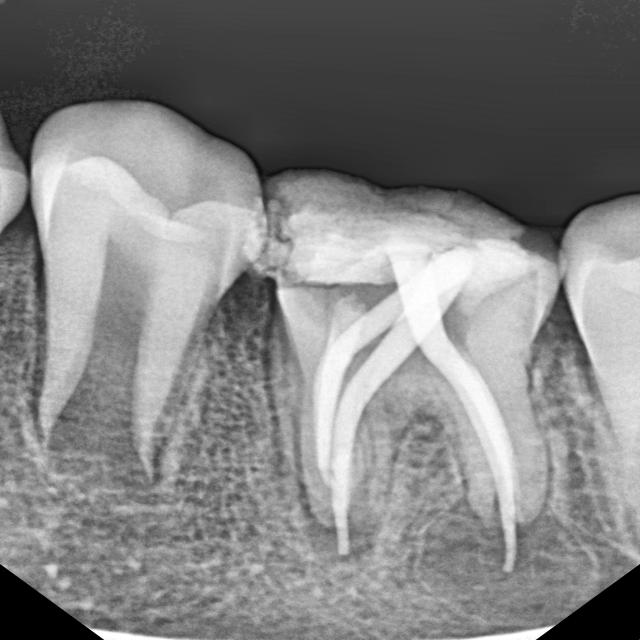RCT: (291, 284, 544, 583)
Restoration: (263, 158, 561, 295)
